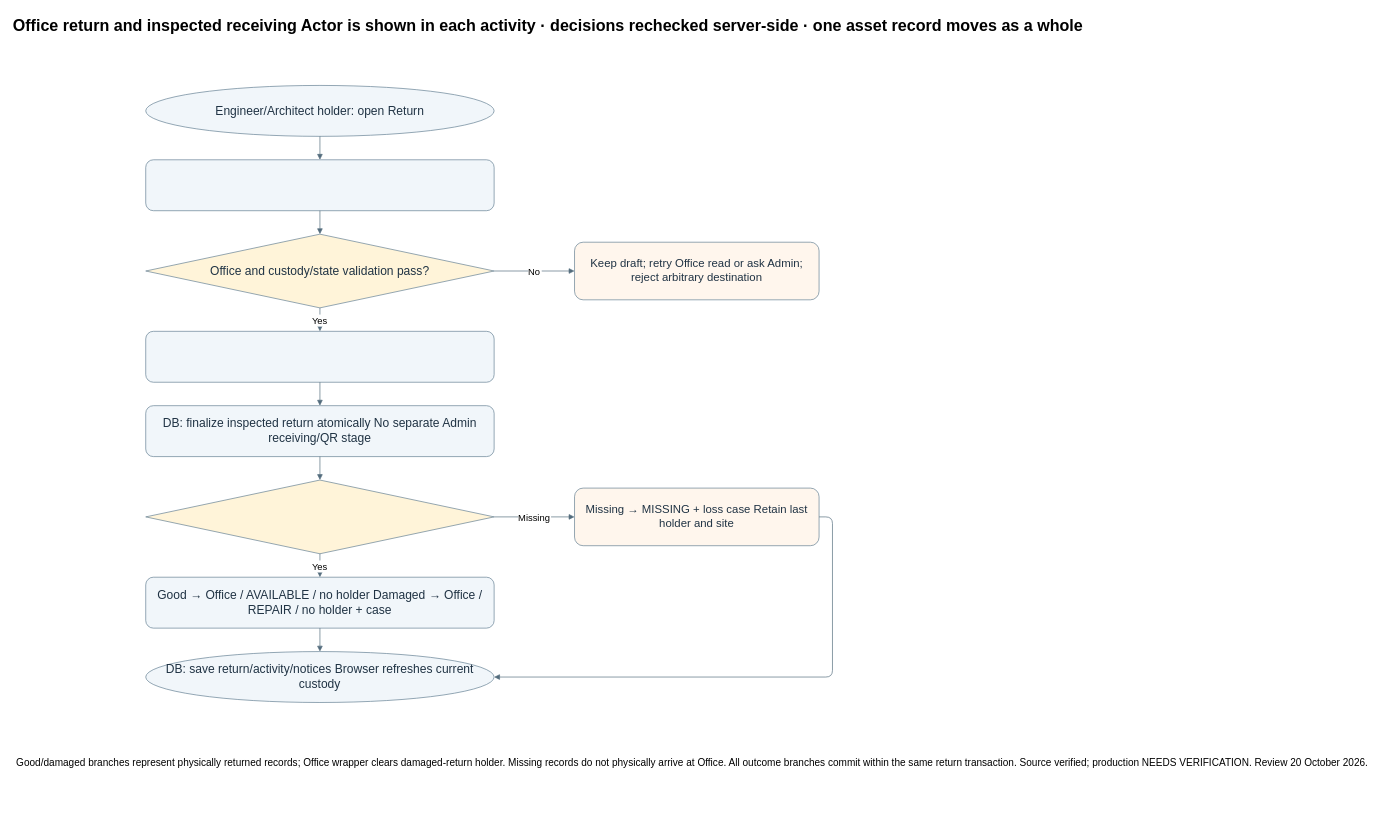
Some shapes in this 1380 by 827 pixel diagram are drawn without their labels. Here are the shapes that lost their labels. From the top down, the centre of each, then its label:
At [319,185]: "Browser: read pinned active Office Select eligible held In Use whole records".
At [319,356]: "Holder: record one condition per tool Notes required for damaged/missing".
At [319,516]: "Condition is Good or Damaged?".
